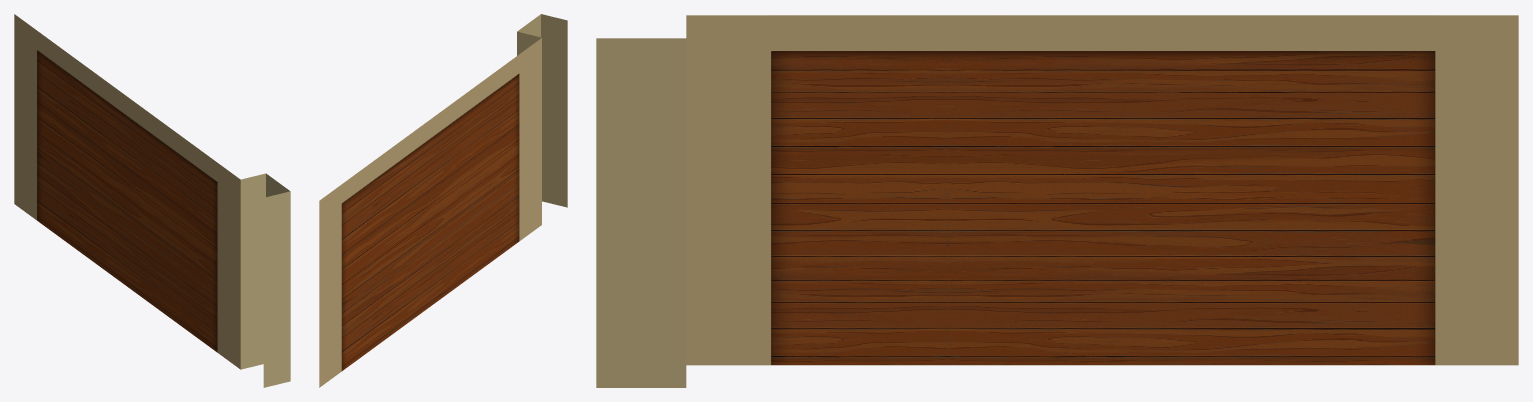
The model's file is pared_03.fbx.
The picture shows the model from 3 angles, left to right: view 1: azimuth 30°, elevation 25°; view 2: azimuth 150°, elevation 25°; view 3: azimuth 270°, elevation 25°; orthographic projection. The views are drawn at different scales.
Visible parts, largest first — view 1: Plane.001; view 2: Plane.001; view 3: Plane.001.
Part boxes in pixels (x1,y1,x2,y2): Plane.001: (14, 14, 290, 387); Plane.001: (319, 14, 567, 387); Plane.001: (596, 15, 1518, 387).
Bounding box in the file's own units: 40.08 × 270 × 645.
2 materials, 1 textured.
